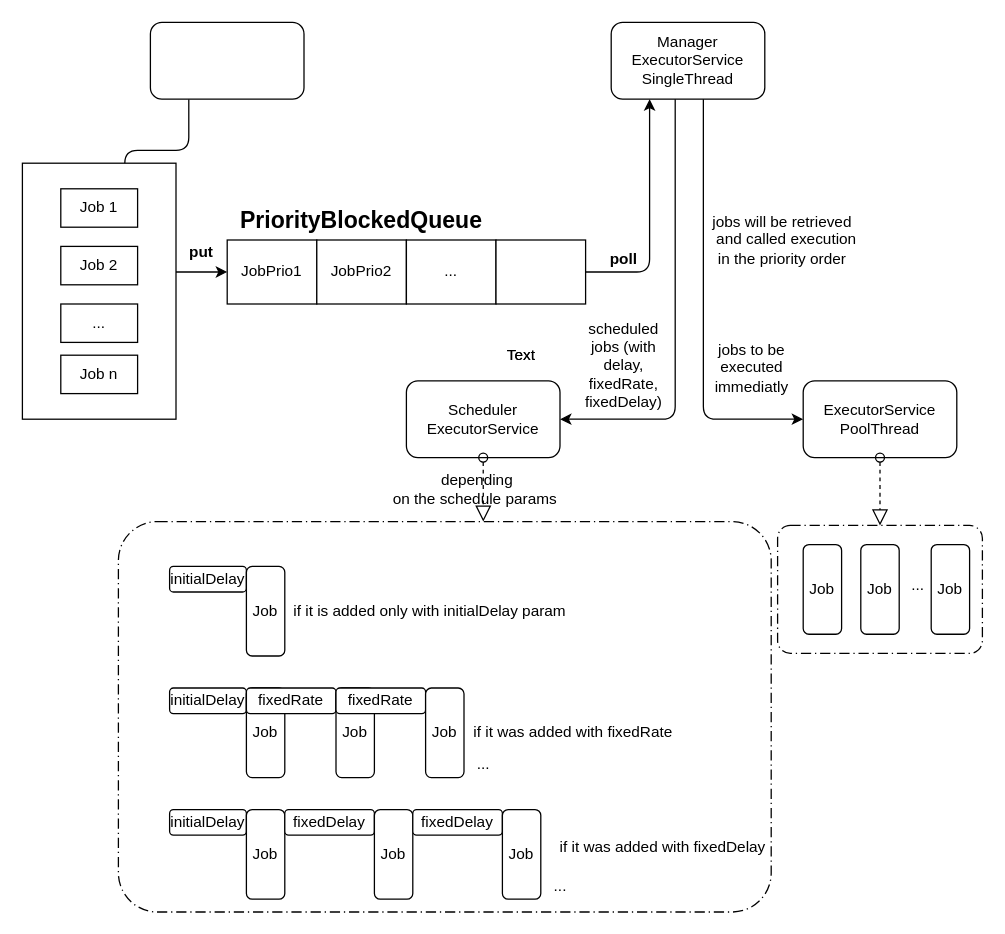
This 1005x934 diagram has some shape labels left out. The shapes that lost their labels are listed below. From the top down, each one's centre as x and y in pixels, then its label:
pixel 226 60: MainThread
pixel 540 271: JobPrio n
